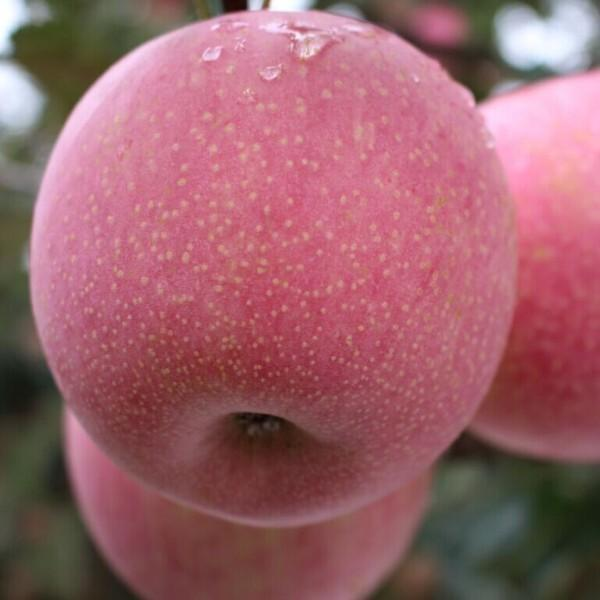apple: (28, 12, 522, 543)
